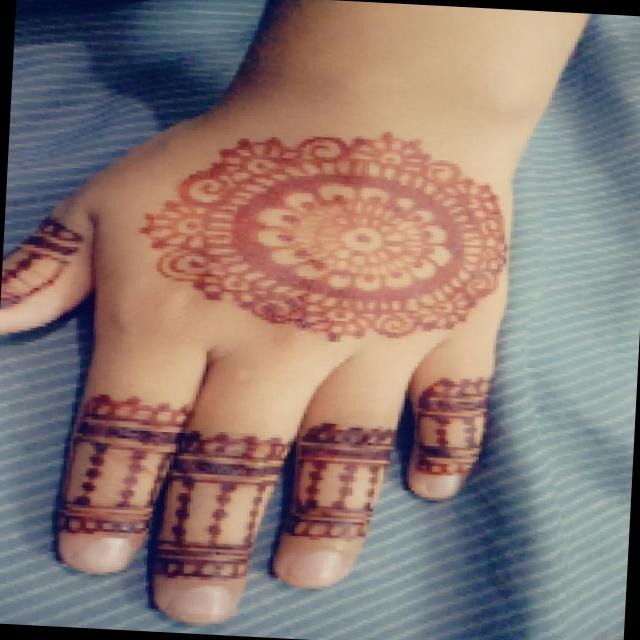Nail: (173, 584, 236, 624), (288, 549, 347, 588), (75, 537, 135, 574), (420, 475, 460, 501)
